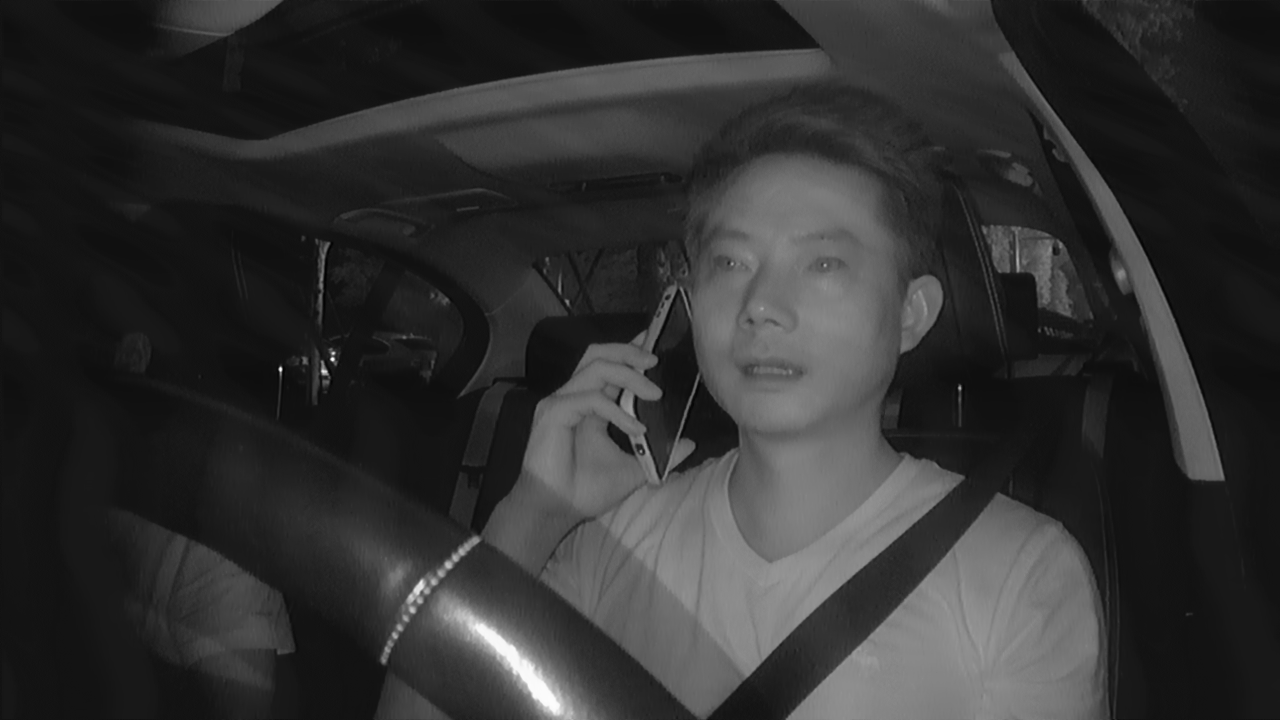hand: (522, 334, 652, 510)
